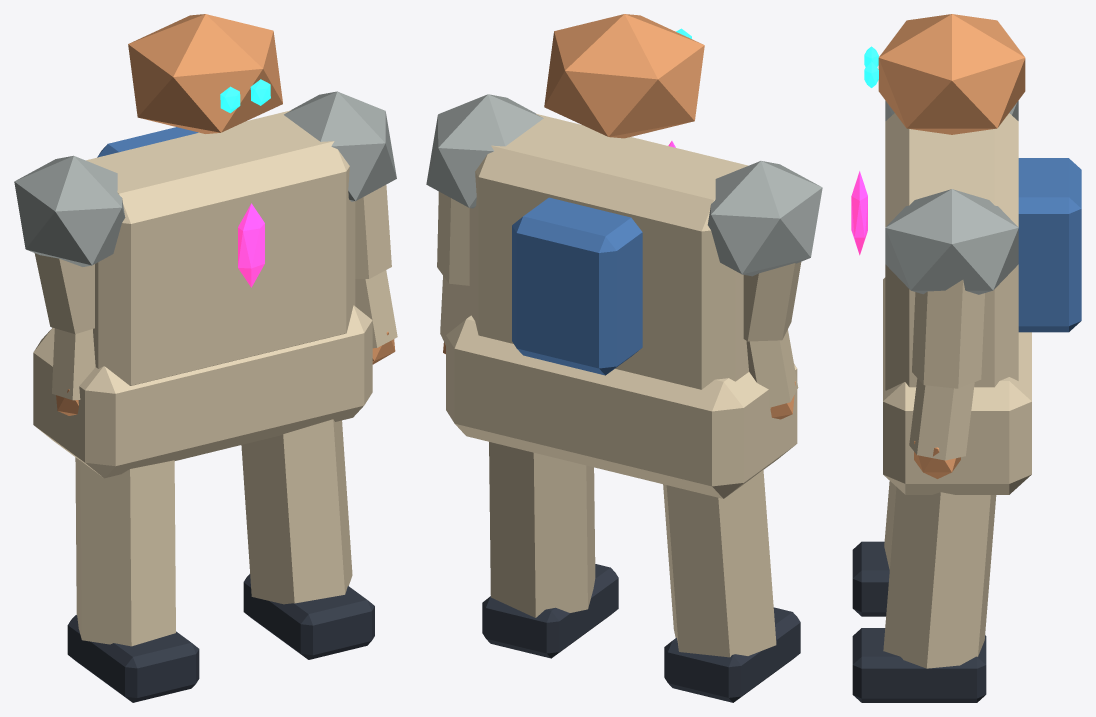
Rendered from npcs_027_seed11.glb.
3 renders of one model, left to right at view 1: azimuth 30°, elevation 25°; view 2: azimuth 150°, elevation 25°; view 3: azimuth 270°, elevation 25°, orthographic. The views are drawn at different scales.
Visible parts, largest first — view 1: npcs_027_seed11; view 2: npcs_027_seed11; view 3: npcs_027_seed11.
Boxes of the visible parts, <box> form: npcs_027_seed11: <box>14,14,397,702</box>; npcs_027_seed11: <box>426,14,822,702</box>; npcs_027_seed11: <box>851,14,1081,702</box>.
Size of the model in its own units: 1.16 by 1.92 by 0.6354.
